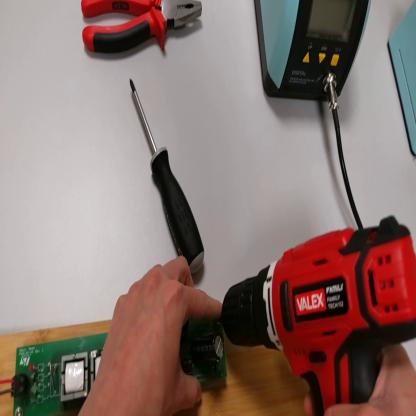electric screwdriver: (220, 219, 416, 415)
hand: (95, 251, 220, 415), (299, 342, 416, 413)
high voltage board: (2, 321, 227, 416)
pliers: (81, 3, 204, 58)
screwdriver-: (131, 76, 207, 274)
welder base: (388, 3, 416, 151)
welder station: (255, 3, 373, 100)
working area: (2, 323, 310, 415)
